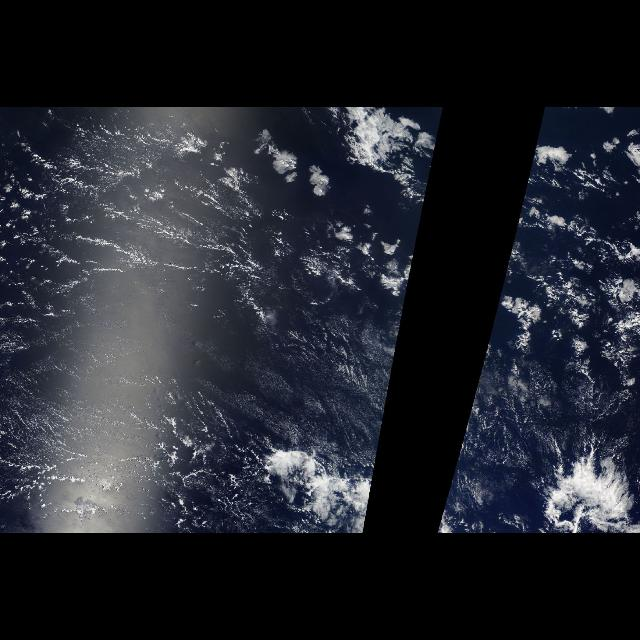Sugar: (8, 111, 200, 458), (204, 316, 403, 509), (442, 316, 540, 509)
